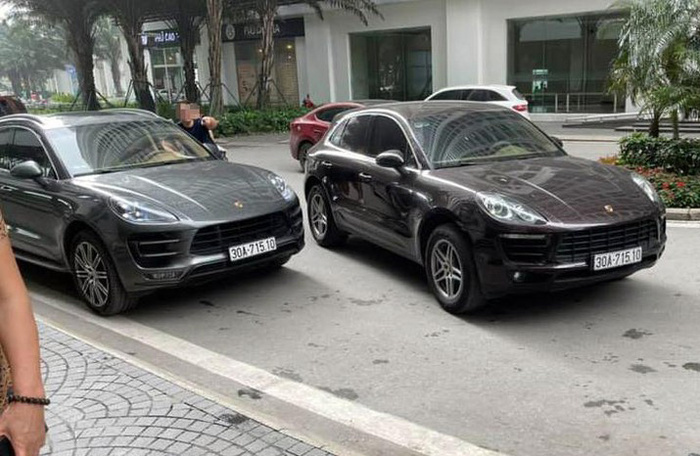number_plate: (583, 242, 657, 278), (221, 241, 287, 264)
